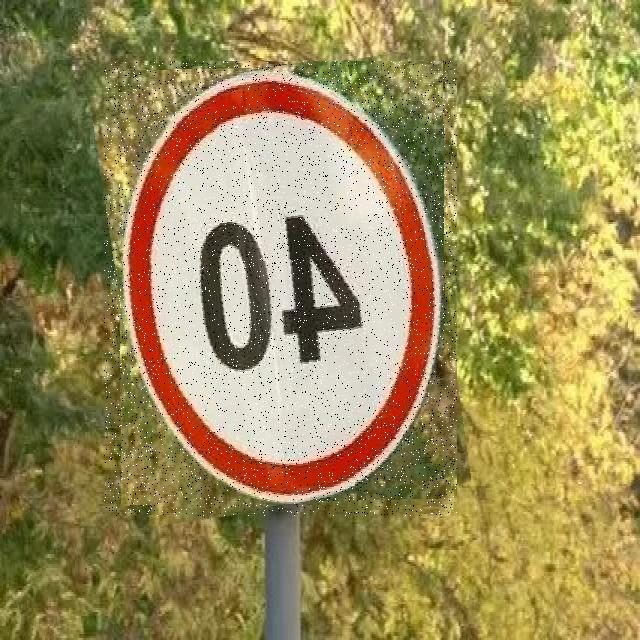speed limit 40: (104, 61, 457, 516)
